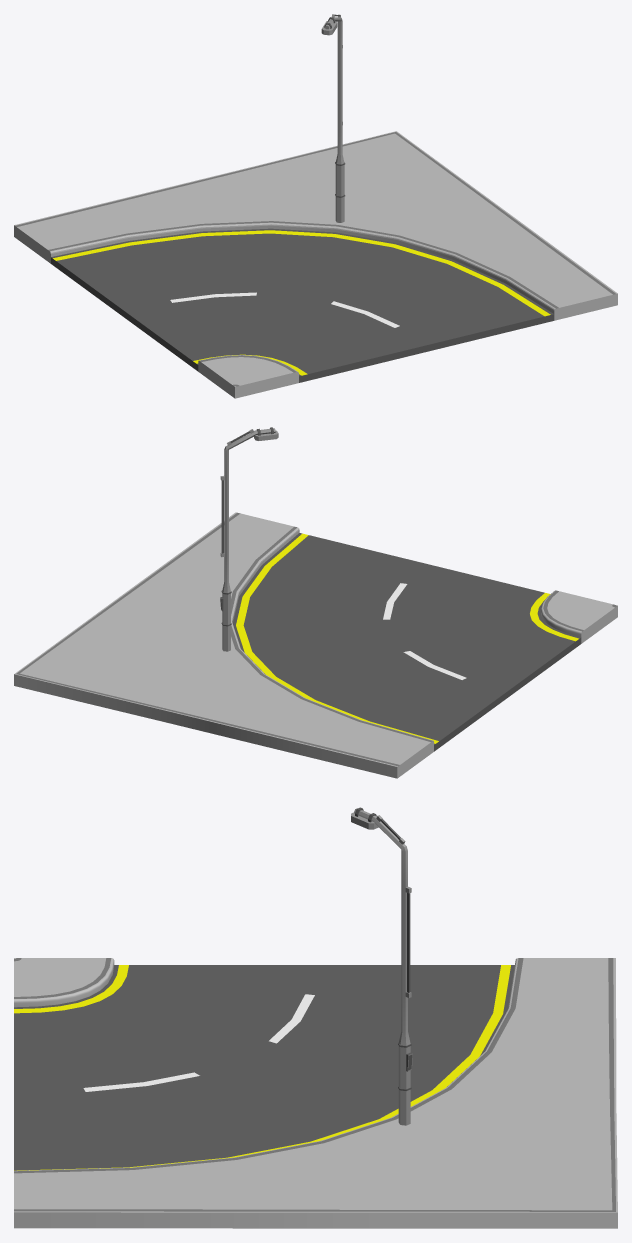
The model's file is SM_Road_Turn_02.FBX.
3 views of the same model, one above another, from view 1: azimuth 30°, elevation 25°; view 2: azimuth 150°, elevation 25°; view 3: azimuth 270°, elevation 25° (orthographic). The views are drawn at different scales.
Visible parts, largest first — view 1: SM_Road_Turn_02; view 2: SM_Road_Turn_02; view 3: SM_Road_Turn_02.
Boxes of the visible parts, <box> form: SM_Road_Turn_02: <box>14,14,617,398</box>; SM_Road_Turn_02: <box>14,427,617,778</box>; SM_Road_Turn_02: <box>14,807,617,1228</box>.
Size of the model in its own units: 6.01 by 3.44 by 6.02.
1 material, 1 textured.
